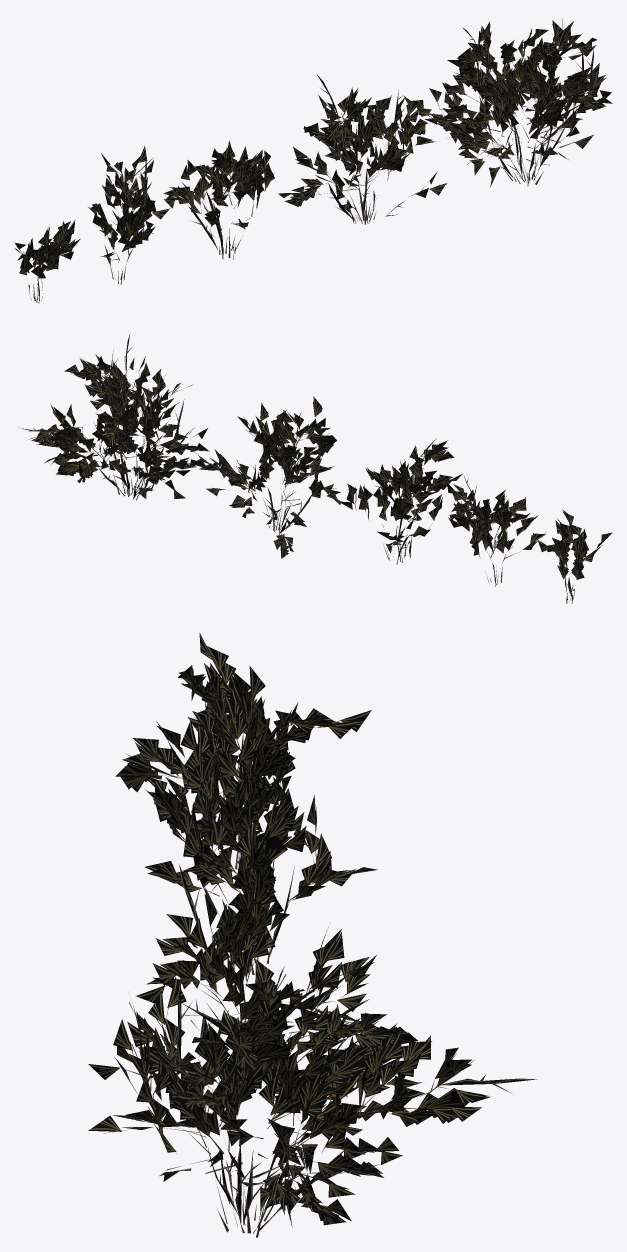
The model's file is wild_rooibos_bush.lod.glb.
3 renders of one model, top to bottom at view 1: azimuth 30°, elevation 25°; view 2: azimuth 150°, elevation 25°; view 3: azimuth 270°, elevation 25°, orthographic. The views are drawn at different scales.
Parts seen in each view (by area): view 1: wild_rooibos_bush_a, wild_rooibos_bush_b, wild_rooibos_bush_c, wild_rooibos_bush_d, wild_rooibos_bush_e; view 2: wild_rooibos_bush_a, wild_rooibos_bush_b, wild_rooibos_bush_c, wild_rooibos_bush_d, wild_rooibos_bush_e; view 3: wild_rooibos_bush_a, wild_rooibos_bush_b, wild_rooibos_bush_c, wild_rooibos_bush_d, wild_rooibos_bush_e.
Part boxes in pixels (<box>): wild_rooibos_bush_a: <box>404,19,612,187</box>; wild_rooibos_bush_b: <box>278,74,447,224</box>; wild_rooibos_bush_c: <box>163,140,274,259</box>; wild_rooibos_bush_d: <box>88,146,169,284</box>; wild_rooibos_bush_e: <box>14,220,80,303</box>; wild_rooibos_bush_a: <box>18,333,209,500</box>; wild_rooibos_bush_b: <box>199,396,340,558</box>; wild_rooibos_bush_c: <box>327,438,462,564</box>; wild_rooibos_bush_d: <box>447,476,545,586</box>; wild_rooibos_bush_e: <box>537,509,612,603</box>; wild_rooibos_bush_a: <box>88,958,537,1237</box>; wild_rooibos_bush_b: <box>136,786,378,1090</box>; wild_rooibos_bush_c: <box>115,720,377,974</box>; wild_rooibos_bush_d: <box>156,666,371,869</box>; wild_rooibos_bush_e: <box>178,633,264,774</box>.
Bounding box in the file's own units: 2.27 × 0.5322 × 0.8007.
3 materials, 3 textured.
